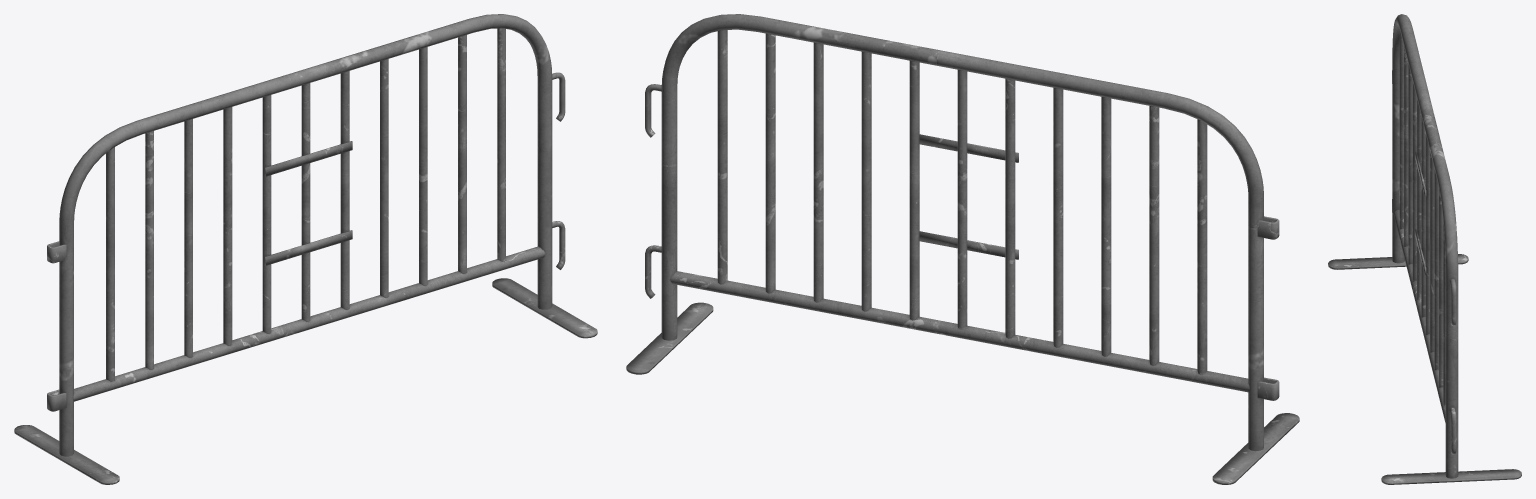
Rendered from street_metal_barrier1.fbx.
3 views of the same model, side by side, from view 1: azimuth 30°, elevation 25°; view 2: azimuth 150°, elevation 25°; view 3: azimuth 270°, elevation 25° (orthographic). The views are drawn at different scales.
Visible parts, largest first — view 1: street_metal_barrier1; view 2: street_metal_barrier1; view 3: street_metal_barrier1.
Part boxes in pixels (<box>): street_metal_barrier1: <box>14,14,597,484</box>; street_metal_barrier1: <box>626,14,1299,484</box>; street_metal_barrier1: <box>1328,14,1521,484</box>.
Size of the model in its own units: 4.3 by 2.34 by 1.51.
Materials: 1 (1 with a texture image).
